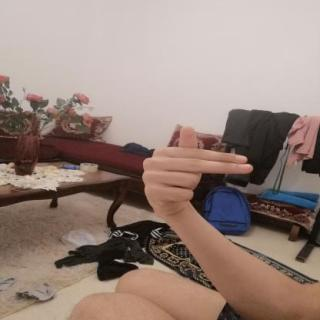GHAYN: (133, 120, 259, 220)
